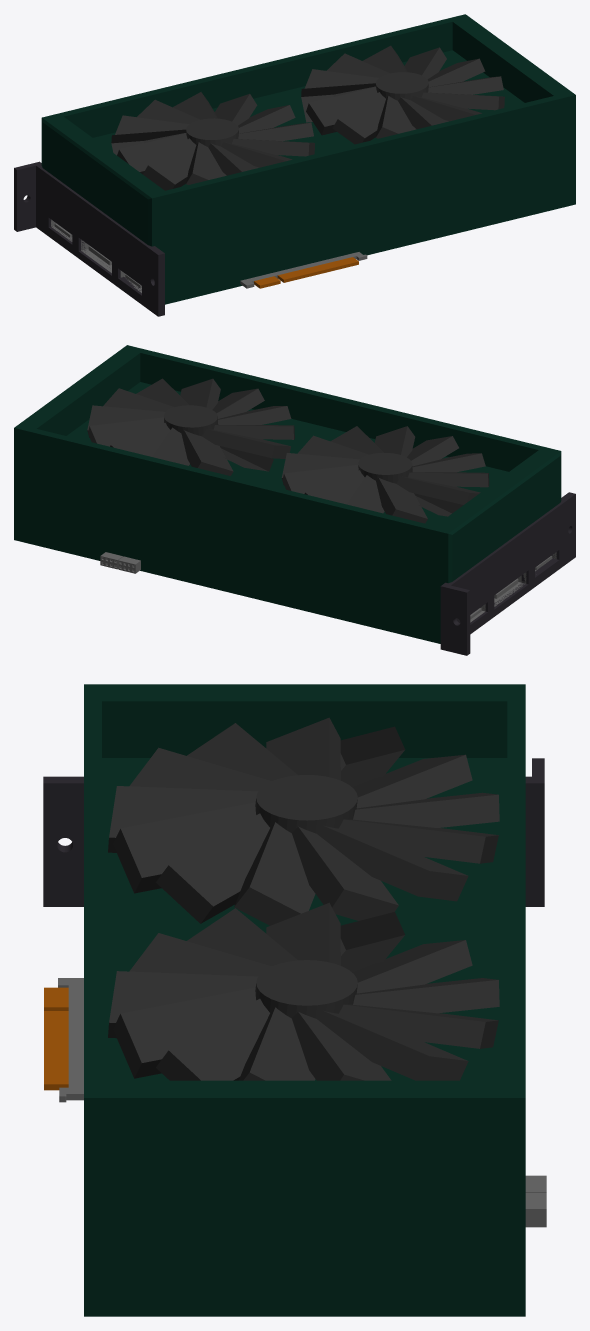
Rendered from Videocard component.glb.
3 views of the same model, one above another, from view 1: azimuth 30°, elevation 25°; view 2: azimuth 150°, elevation 25°; view 3: azimuth 270°, elevation 25° (orthographic). The views are drawn at different scales.
Visible parts, largest first — view 1: Videocard component; view 2: Videocard component; view 3: Videocard component.
Boxes of the visible parts, x1,y1,x2,y2 form: Videocard component: (14,14,575,316); Videocard component: (14,345,575,655); Videocard component: (43,684,546,1316).
Bounding box in the file's own units: 9.47 × 2.31 × 4.62.
